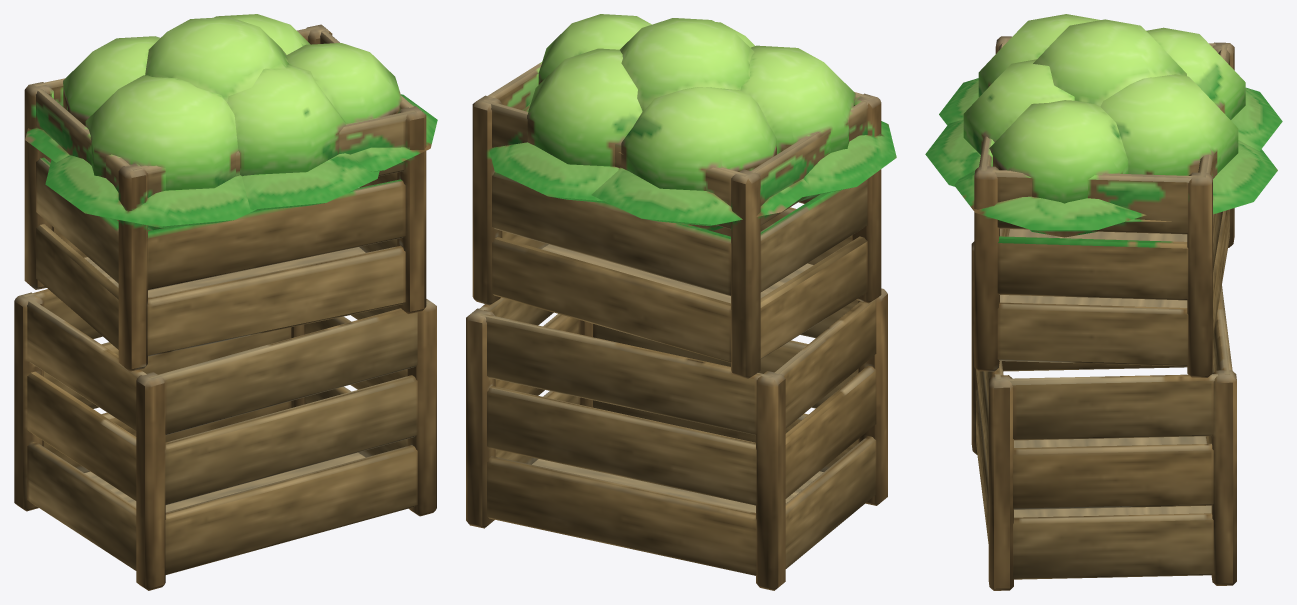
File: produce_crate.glb
3 renders of one model, left to right at view 1: azimuth 30°, elevation 25°; view 2: azimuth 150°, elevation 25°; view 3: azimuth 270°, elevation 25°, orthographic.
Visible parts, largest first — view 1: produce_crate_game; view 2: produce_crate_game; view 3: produce_crate_game.
Part boxes in pixels (x1,y1,x2,y2): produce_crate_game: (14,14,437,590); produce_crate_game: (466,14,896,590); produce_crate_game: (925,14,1282,590).
Bounding box in the file's own units: 0.7433 × 0.9743 × 0.6517.
Materials: 1 (1 with a texture image).
